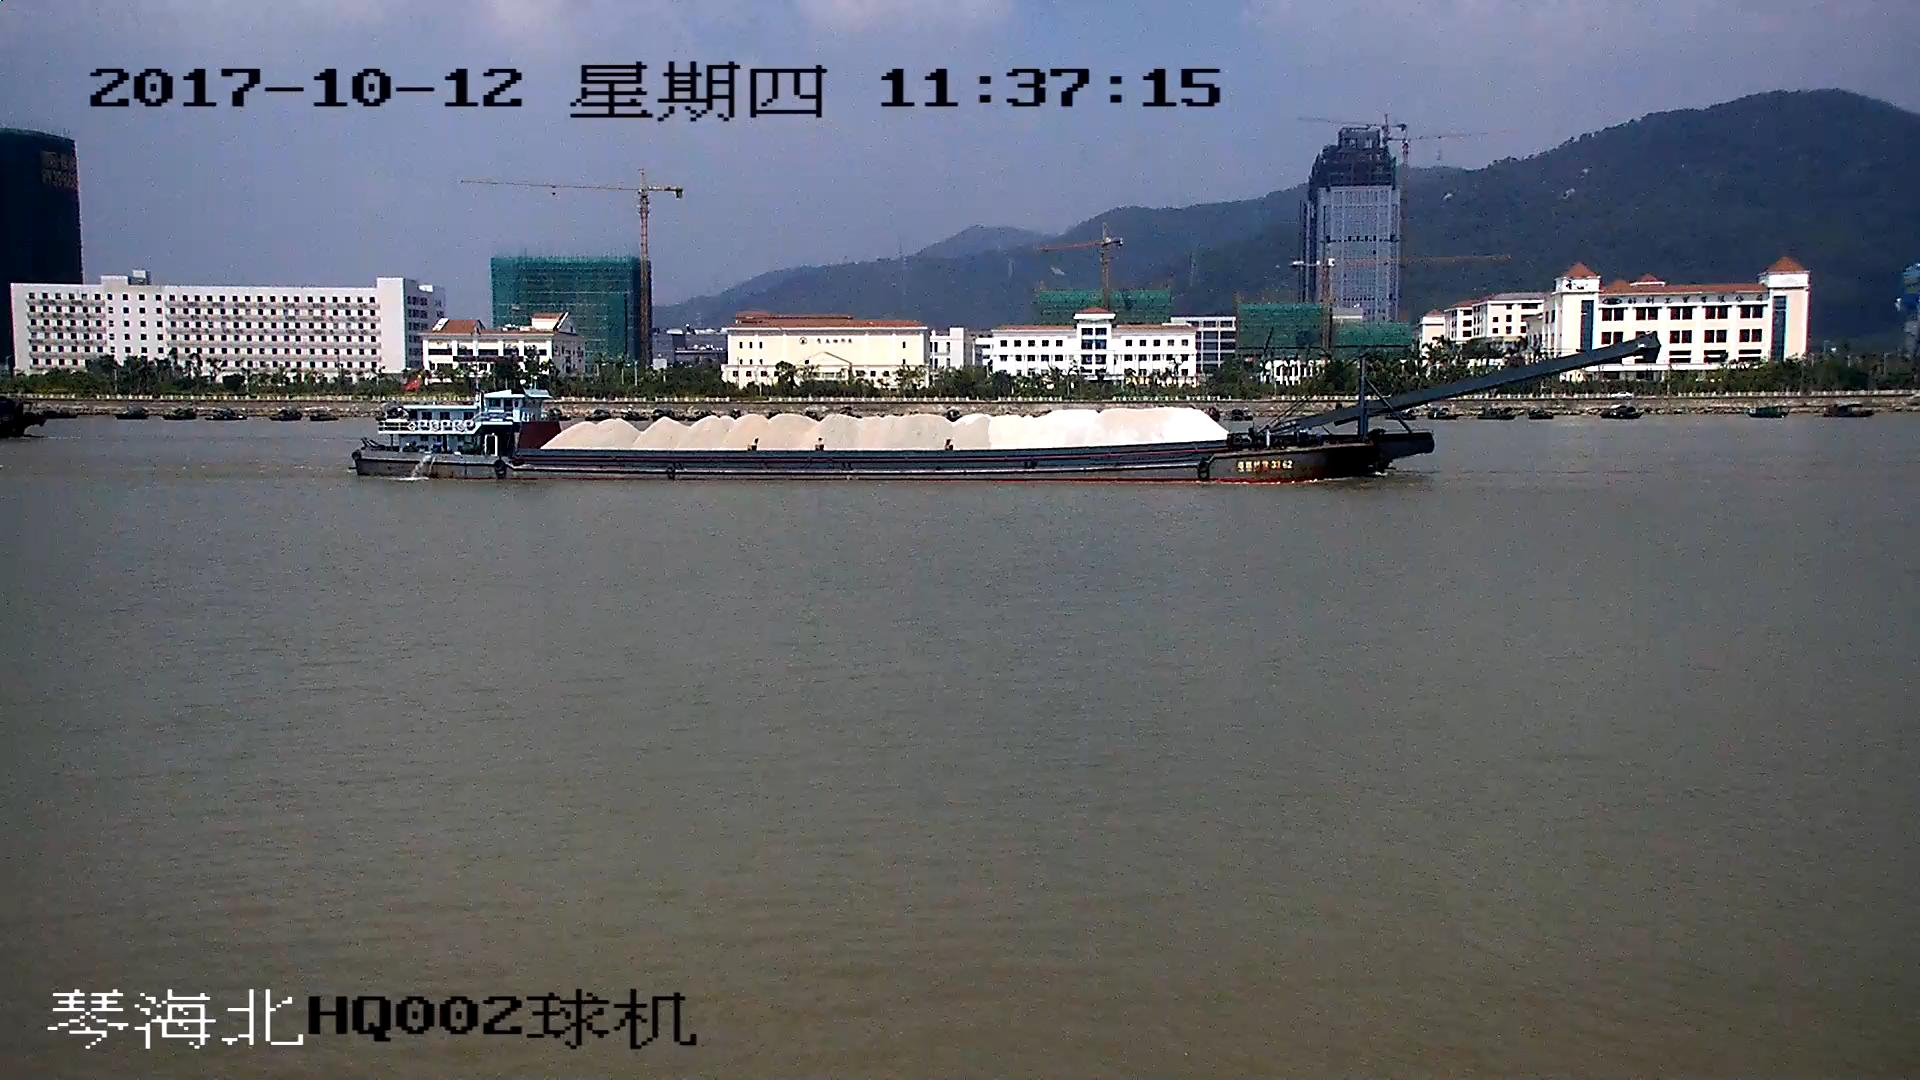ore carrier: (353, 337, 1651, 482)
